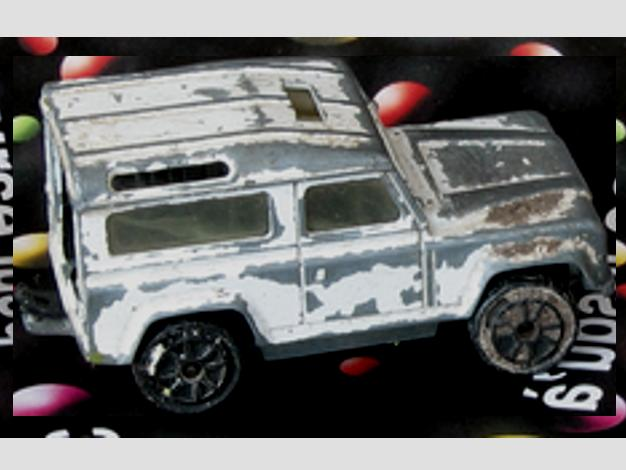toy-car: (14, 57, 617, 417)
